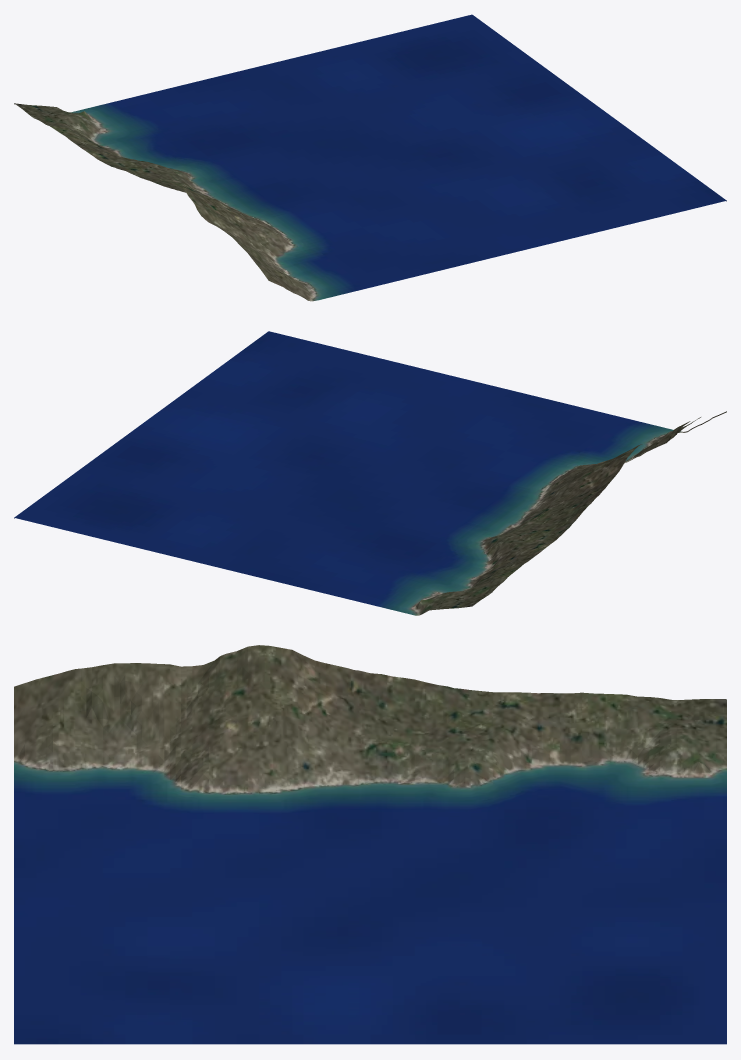
The picture shows the model from 3 angles, top to bottom: view 1: azimuth 30°, elevation 25°; view 2: azimuth 150°, elevation 25°; view 3: azimuth 270°, elevation 25°; orthographic projection. The views are drawn at different scales.
Size of the model in its own units: 500 by 65.31 by 481.
1 material, 1 textured.
